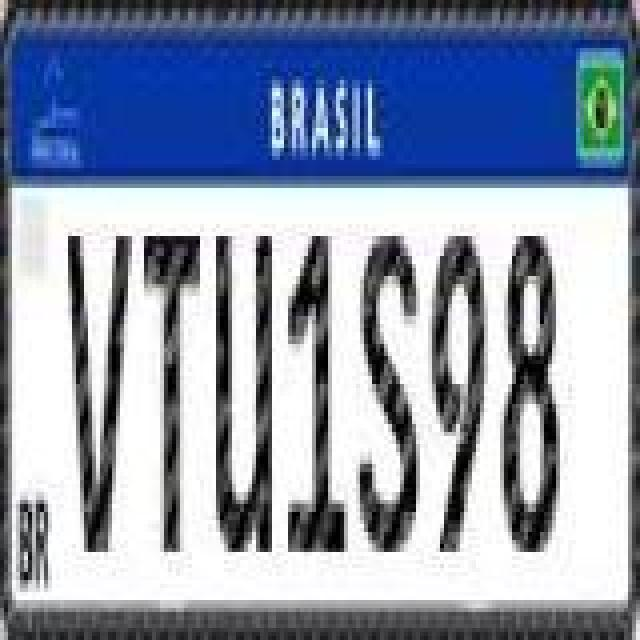1: (282, 224, 350, 560)
8: (496, 224, 560, 560)
9: (424, 230, 488, 554)
S: (356, 224, 420, 560)
T: (142, 224, 202, 560)
U: (212, 224, 276, 560)
V: (62, 230, 130, 554)
